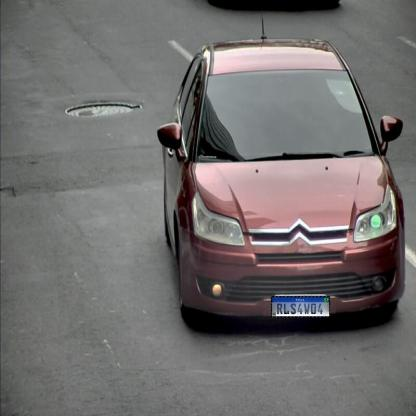PlacaM: (271, 296, 330, 318)
